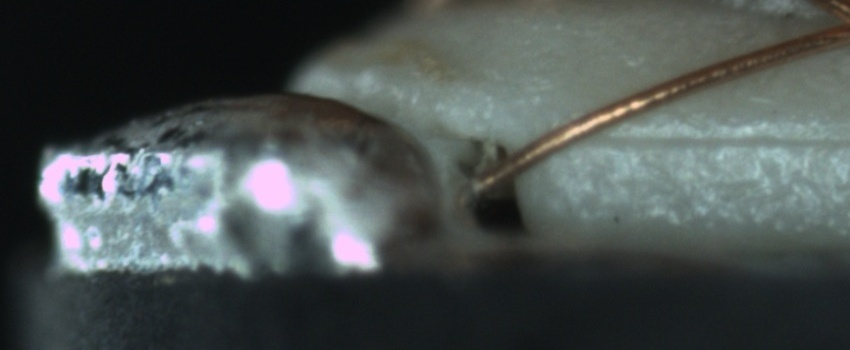CL: (792, 5, 850, 55)
DL: (576, 107, 843, 173)
